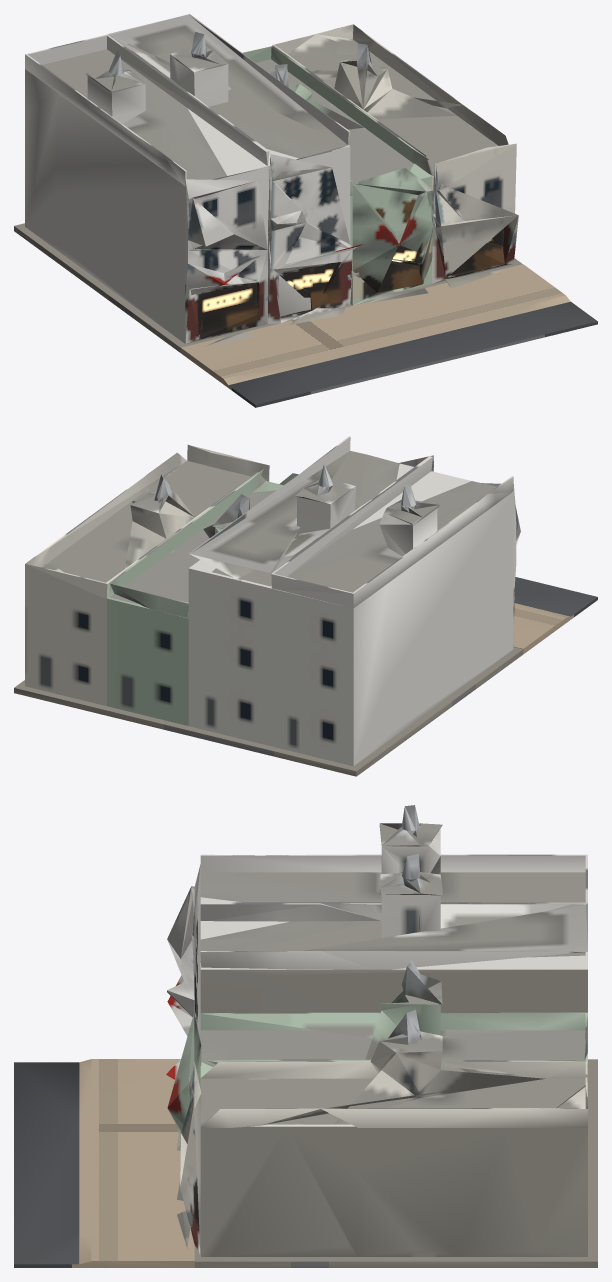
The model's file is quang_trung_20_26.far.glb.
3 renders of one model, top to bottom at view 1: azimuth 30°, elevation 25°; view 2: azimuth 150°, elevation 25°; view 3: azimuth 270°, elevation 25°, orthographic. The views are drawn at different scales.
Parts seen in each view (by area): view 1: quang_trung_20_26; view 2: quang_trung_20_26; view 3: quang_trung_20_26.
Boxes of the visible parts, box(x1,y1,x2,y2) form: quang_trung_20_26: box(14, 14, 597, 407); quang_trung_20_26: box(14, 436, 597, 776); quang_trung_20_26: box(14, 805, 597, 1267).
Size of the model in its own units: 24.3 by 15.54 by 29.68.
Materials: 13 (13 with a texture image).
